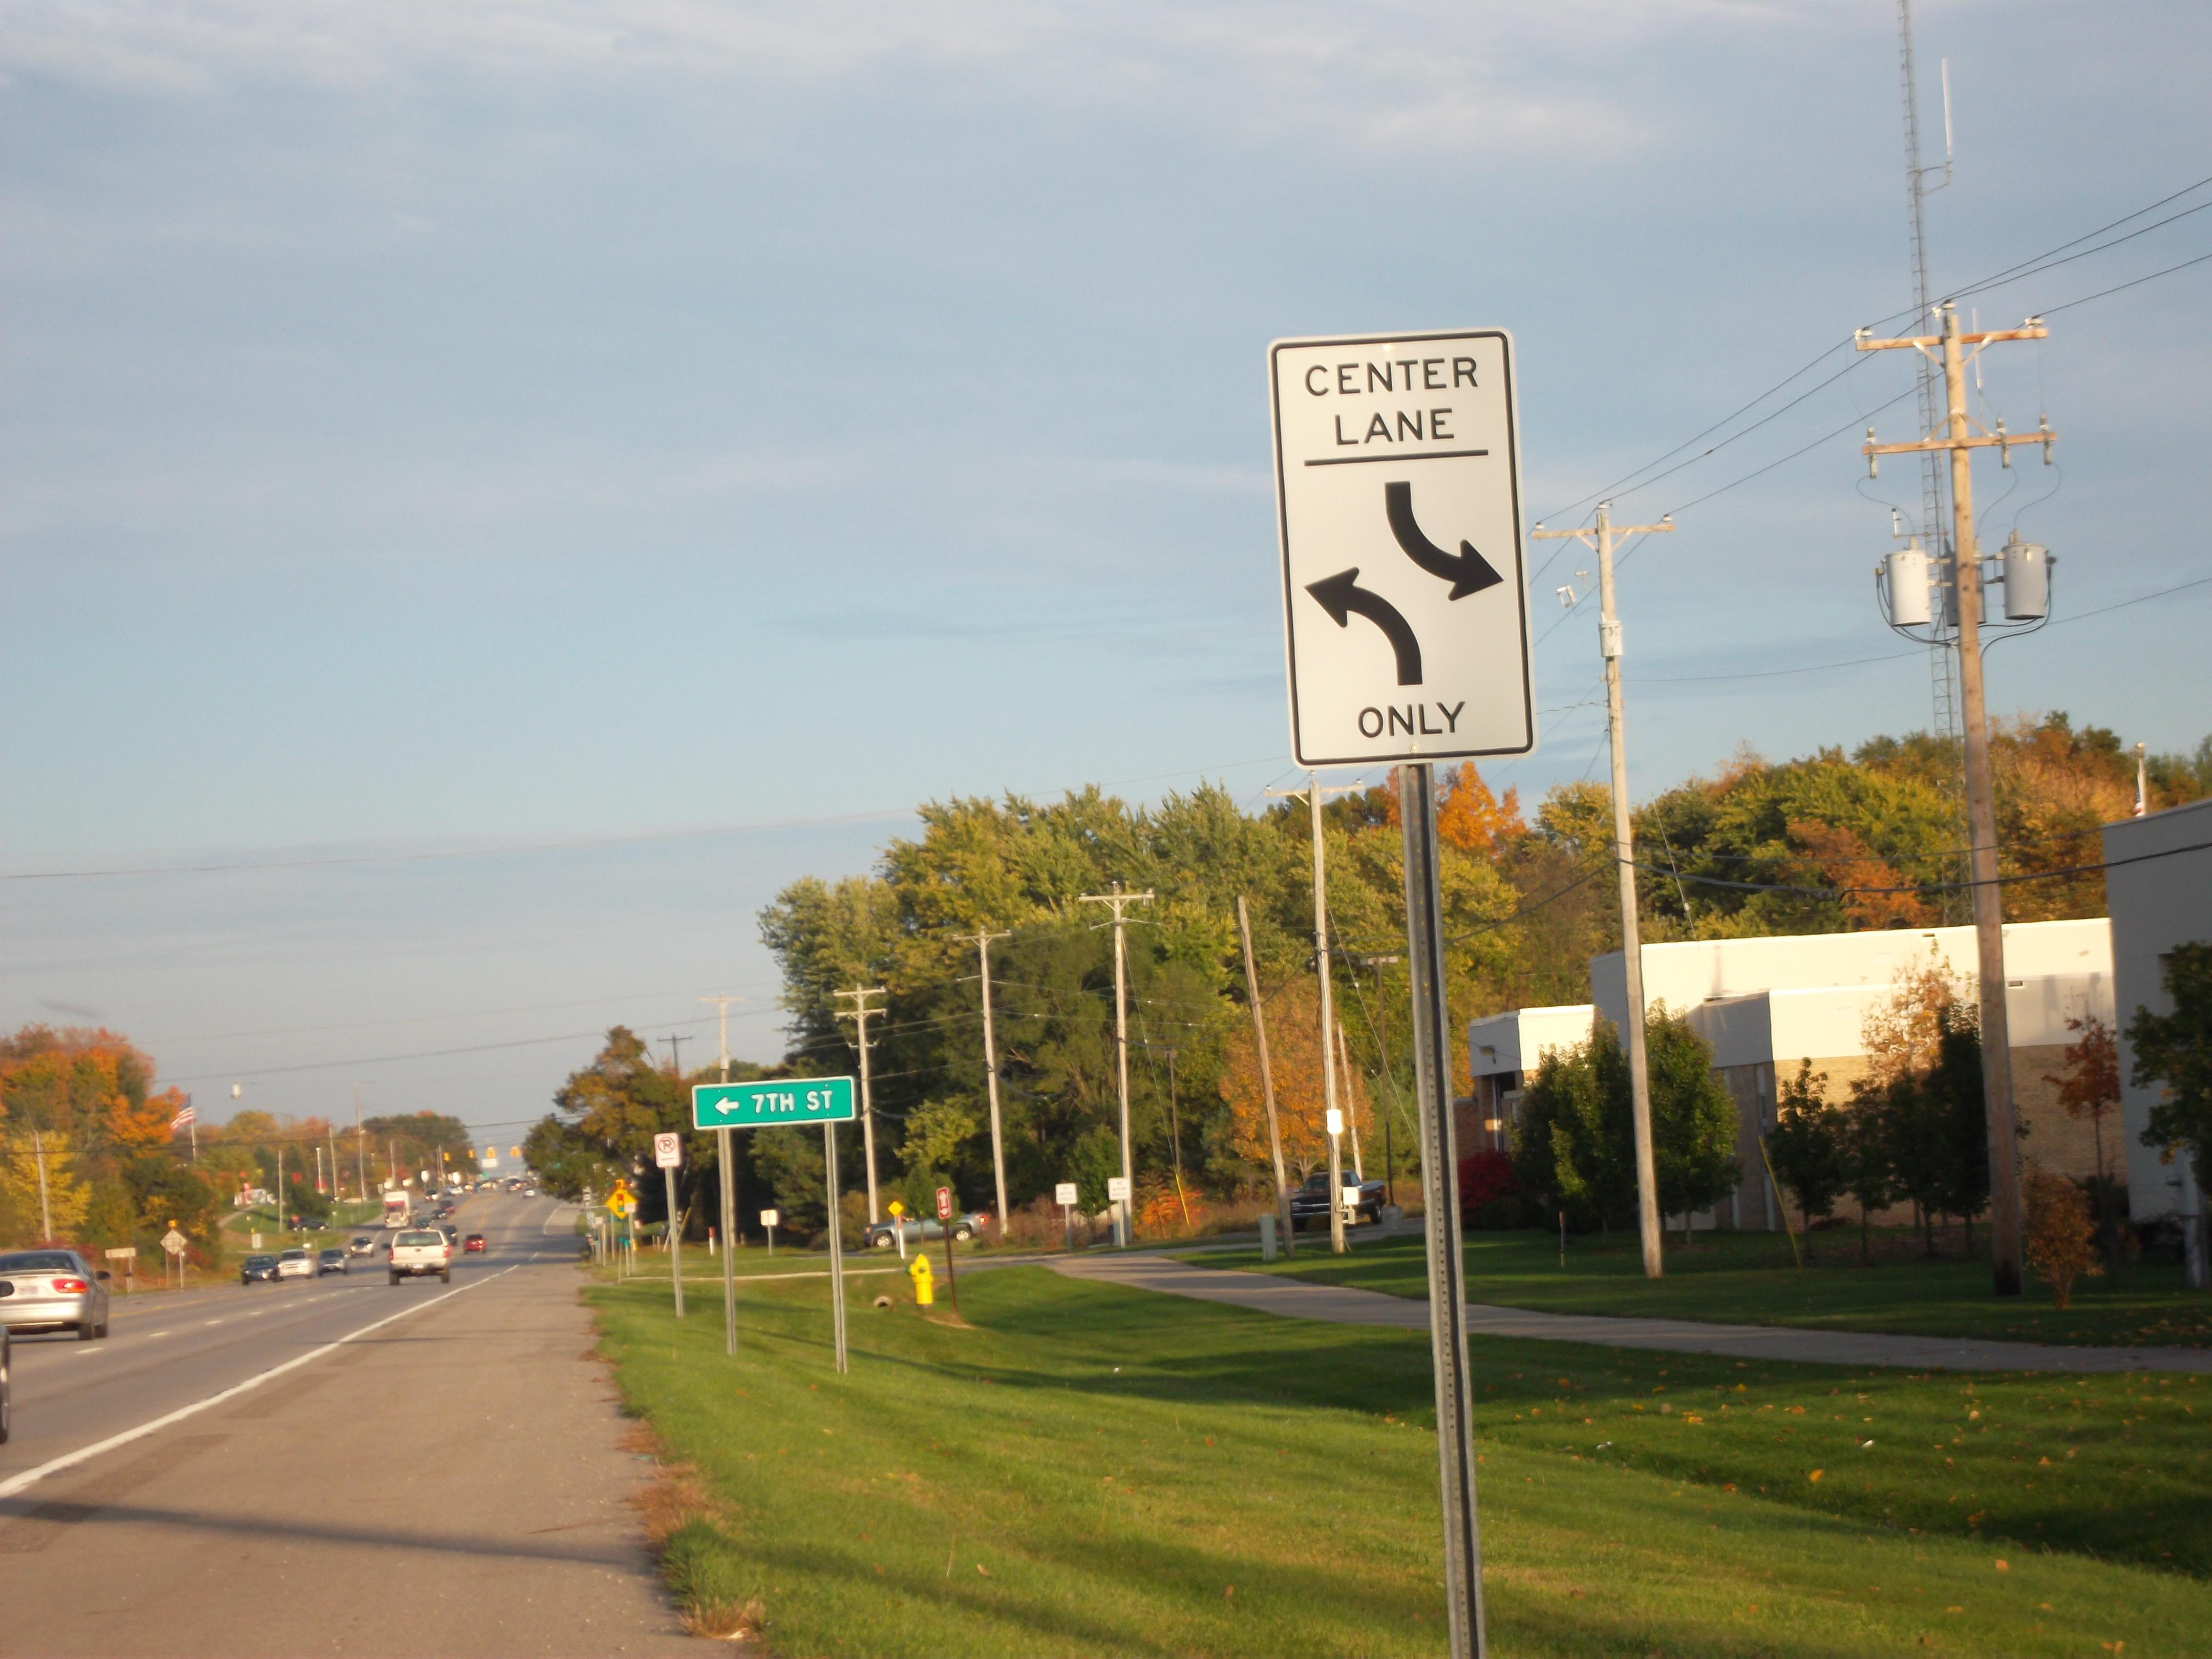regulatory: (1268, 324, 1543, 756)
warning: (601, 1182, 643, 1229)
